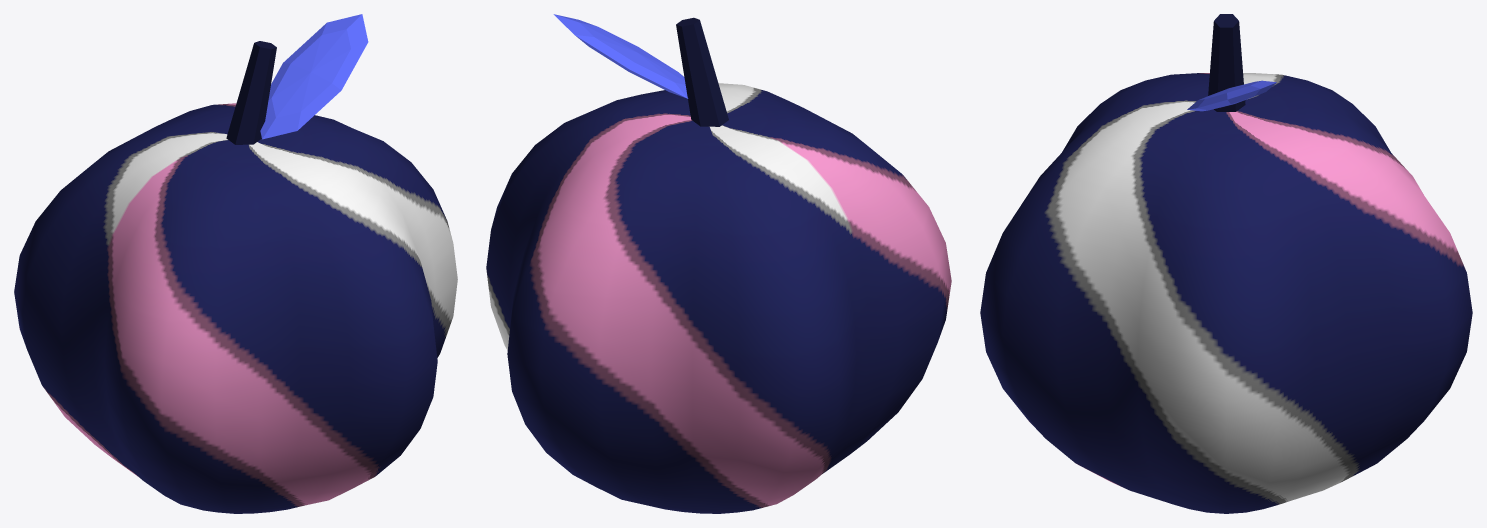
Rendered from Fruit_Cosmos.fbx.
3 renders of one model, left to right at view 1: azimuth 30°, elevation 25°; view 2: azimuth 150°, elevation 25°; view 3: azimuth 270°, elevation 25°, orthographic. The views are drawn at different scales.
Parts seen in each view (by area): view 1: Fruit_Cosmos; view 2: Fruit_Cosmos; view 3: Fruit_Cosmos.
Boxes of the visible parts, bbox=[...] form: Fruit_Cosmos: bbox=[14, 14, 457, 513]; Fruit_Cosmos: bbox=[486, 14, 951, 513]; Fruit_Cosmos: bbox=[980, 14, 1472, 513].
Size of the model in its own units: 1.7 by 1.9 by 1.76.
Materials: 1 (1 with a texture image).
